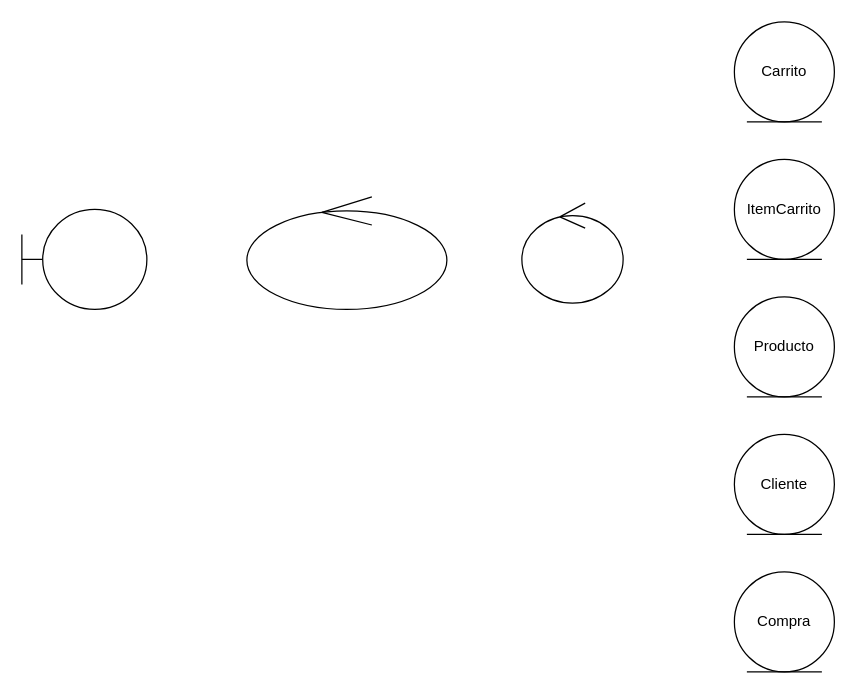
The diagram is 856 pixels wide and 694 high, and some of its shapes have lost their labels. Each missing label, with the centre of its shape:
ControlConfirmarCompra: the point at 346,252
ControlPago: the point at 572,252
PantallaCarrito: the point at 84,258
